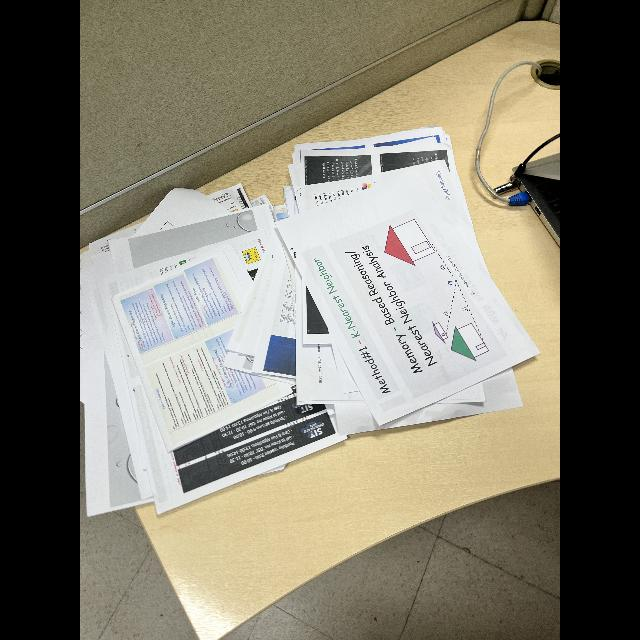reuseable_paper: (80, 126, 538, 524)
